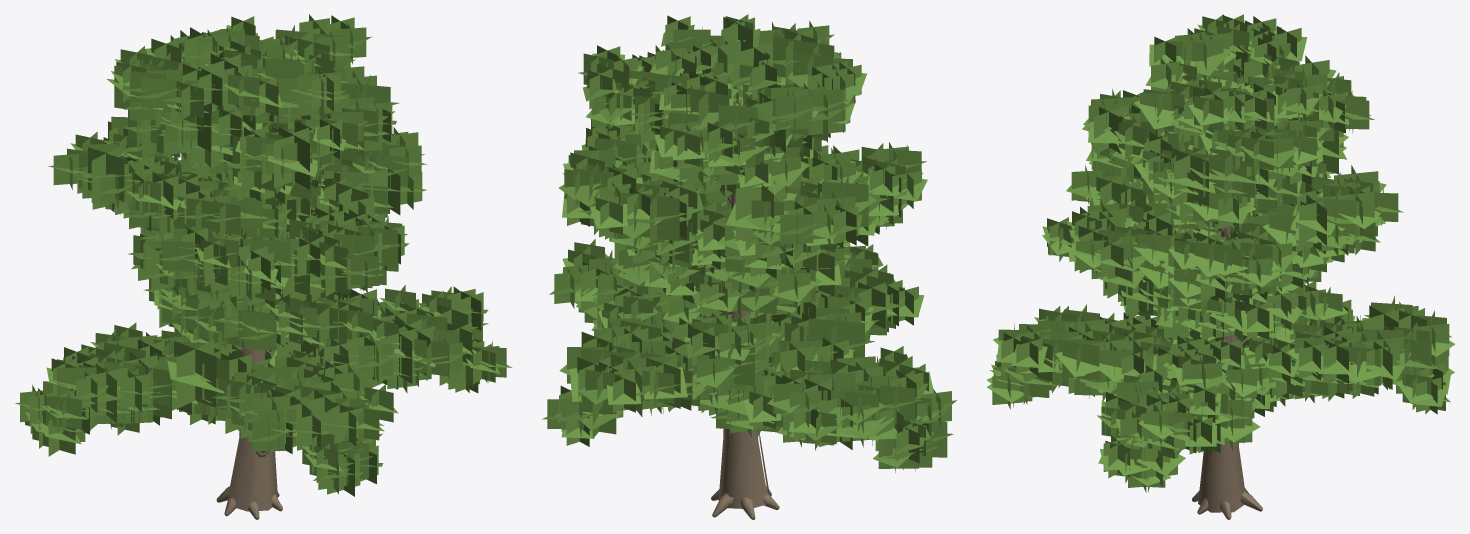
Rendered from pommier_5_f3_jeu.glb.
3 views of the same model, side by side, from view 1: azimuth 30°, elevation 25°; view 2: azimuth 150°, elevation 25°; view 3: azimuth 270°, elevation 25° (orthographic). The views are drawn at different scales.
Visible parts, largest first — view 1: Pommier_T5_f3_Leger; view 2: Pommier_T5_f3_Leger; view 3: Pommier_T5_f3_Leger.
Part boxes in pixels (x1=…): Pommier_T5_f3_Leger: x1=15, y1=14, x2=512, y2=519; Pommier_T5_f3_Leger: x1=542, y1=14, x2=957, y2=519; Pommier_T5_f3_Leger: x1=986, y1=14, x2=1455, y2=519.
Bounding box in the file's own units: 8.79 × 9.41 × 8.92.
